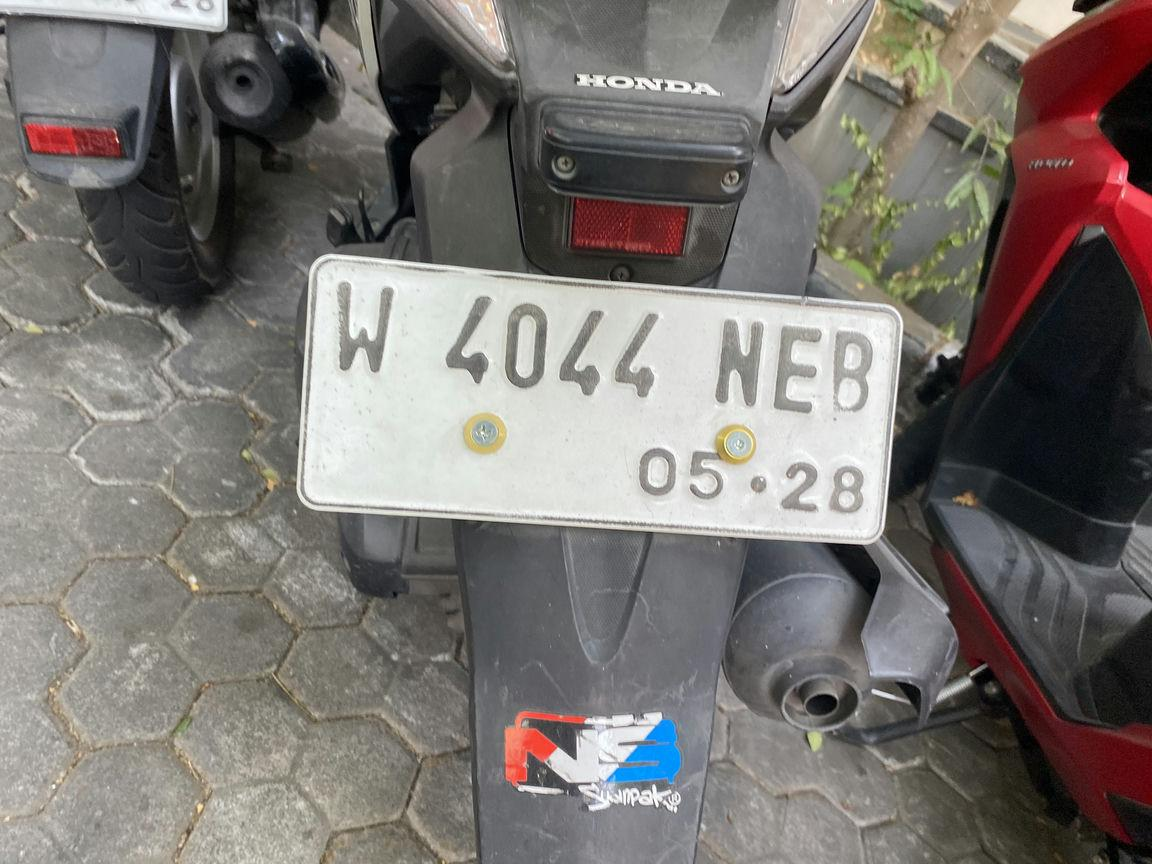plat: (297, 254, 900, 544)
